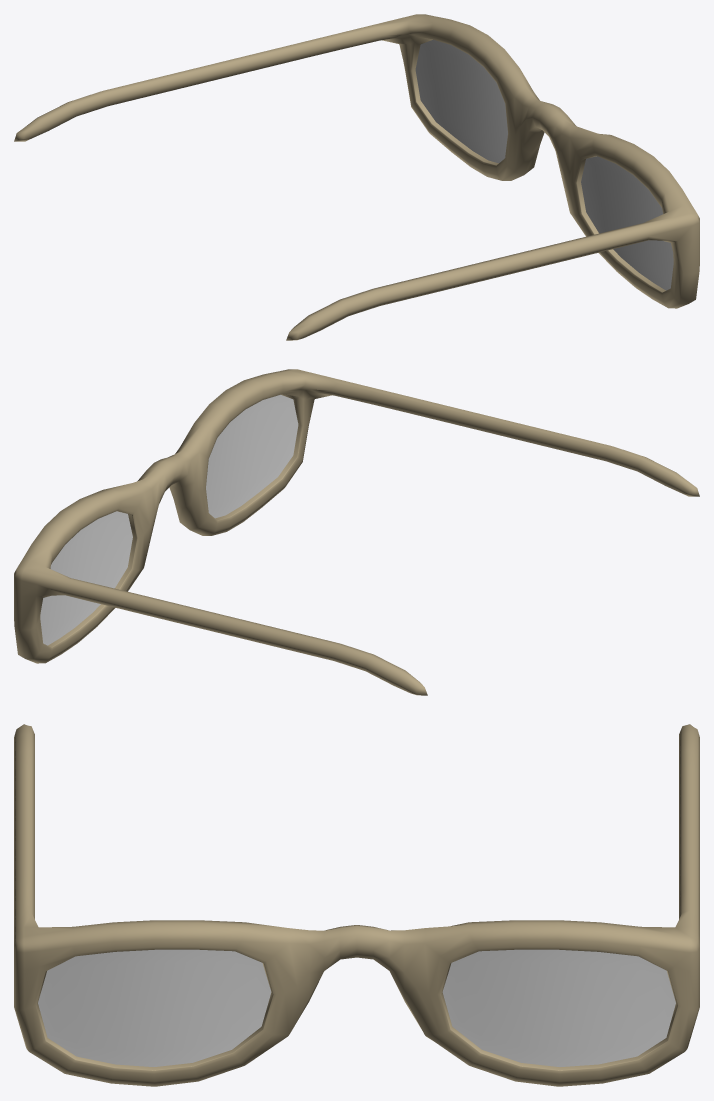
The model's file is glasses.fbx.
The picture shows the model from 3 angles, top to bottom: view 1: azimuth 30°, elevation 25°; view 2: azimuth 150°, elevation 25°; view 3: azimuth 270°, elevation 25°; orthographic projection. The views are drawn at different scales.
Visible parts, largest first — view 1: polySurface9, polySurface12, polySurface13; view 2: polySurface9, polySurface13, polySurface12; view 3: polySurface9, polySurface12, polySurface13.
Boxes of the visible parts, bbox=[...] form: polySurface9: bbox=[14, 14, 699, 340]; polySurface12: bbox=[415, 39, 507, 163]; polySurface13: bbox=[581, 156, 673, 290]; polySurface9: bbox=[14, 369, 699, 695]; polySurface13: bbox=[206, 394, 298, 518]; polySurface12: bbox=[40, 511, 132, 645]; polySurface9: bbox=[14, 724, 699, 1086]; polySurface12: bbox=[442, 949, 675, 1066]; polySurface13: bbox=[38, 949, 271, 1066].
Size of the model in its own units: 0.5321 by 0.1579 by 0.6098.
